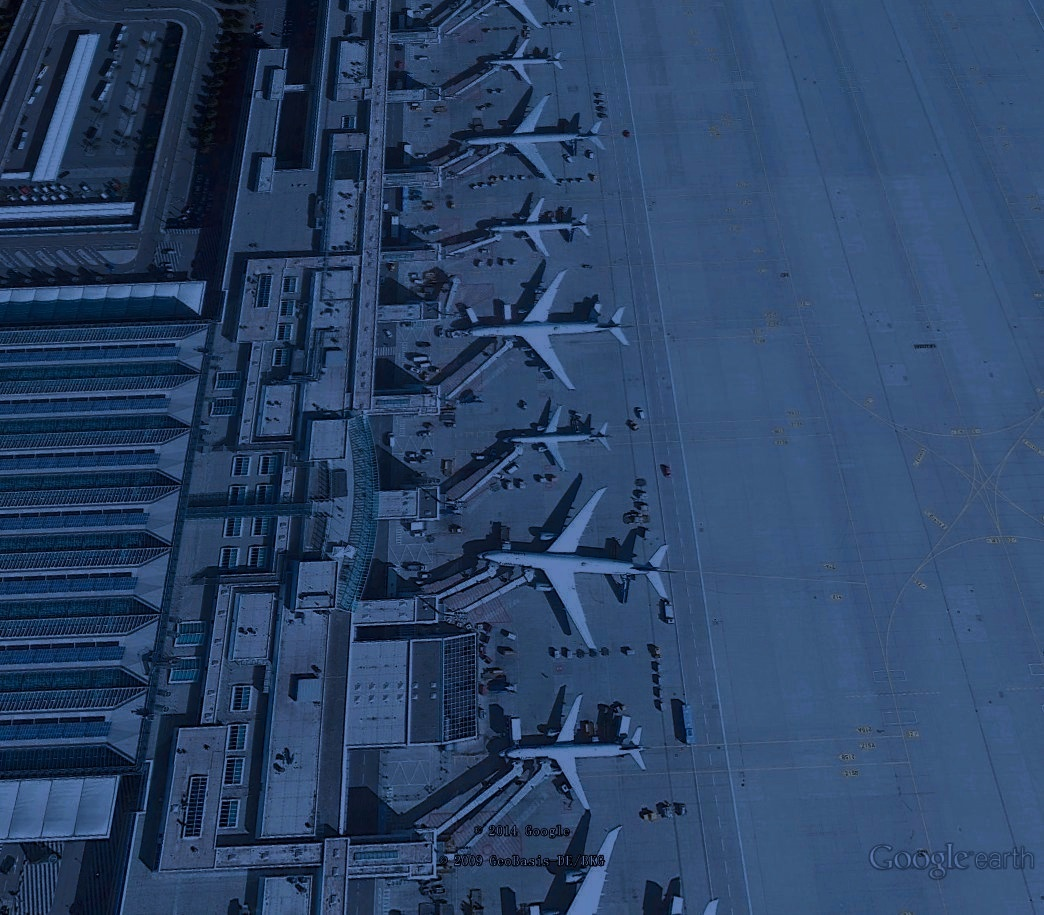aircraft: (468, 483, 681, 657), (460, 264, 639, 396), (493, 687, 657, 822), (510, 823, 724, 915), (456, 90, 616, 190), (499, 400, 621, 477), (477, 187, 594, 265), (475, 30, 570, 90)
